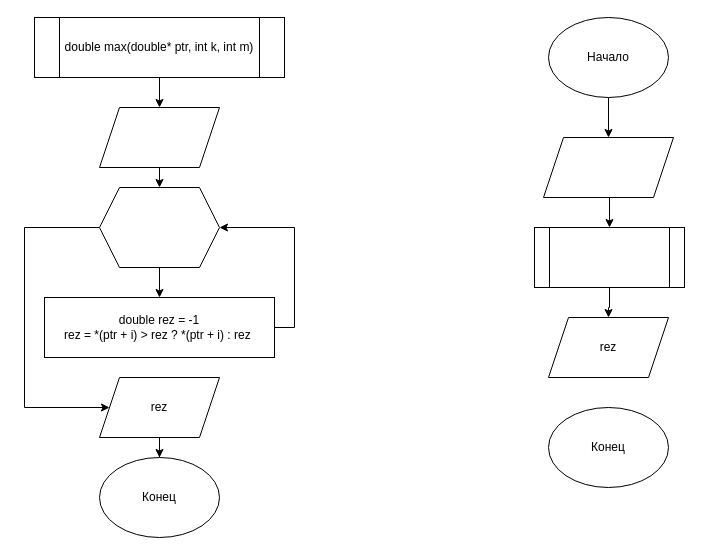
Image size: 702x555. Some labels were removed from this diagram. Each missing label, with the centre of its shape:
"double mas[SIZE] int k, m" goes at (608,167).
"double* ptr int k, m" goes at (159,137).
"int i = k; i <= m; i++" goes at (159,227).
"rez = max(mas, k, m)" goes at (609,257).
